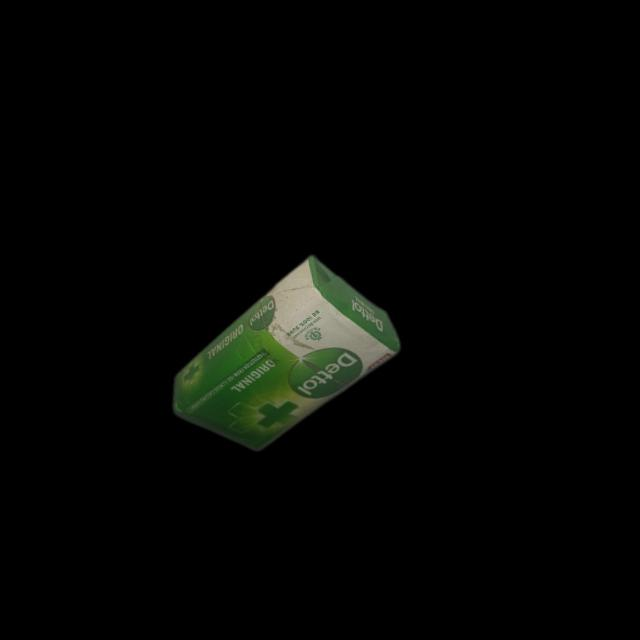Dettol Bathing Soap Bar - Original 125g: (147, 244, 410, 466)
